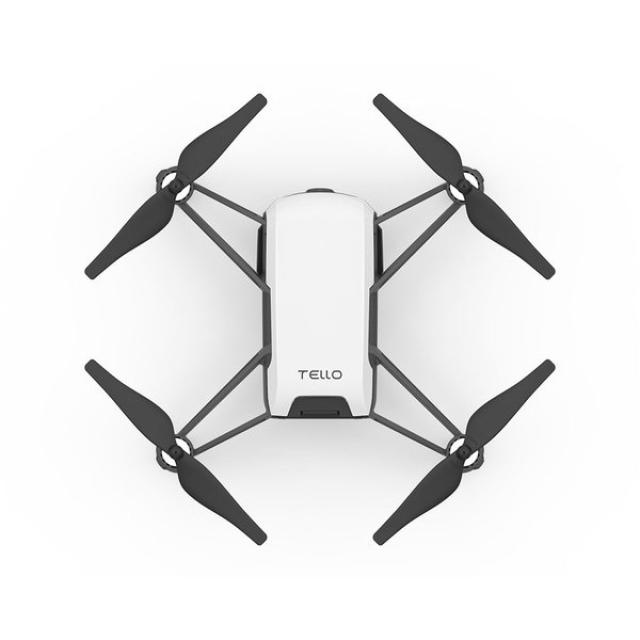drone: (79, 90, 561, 561)
